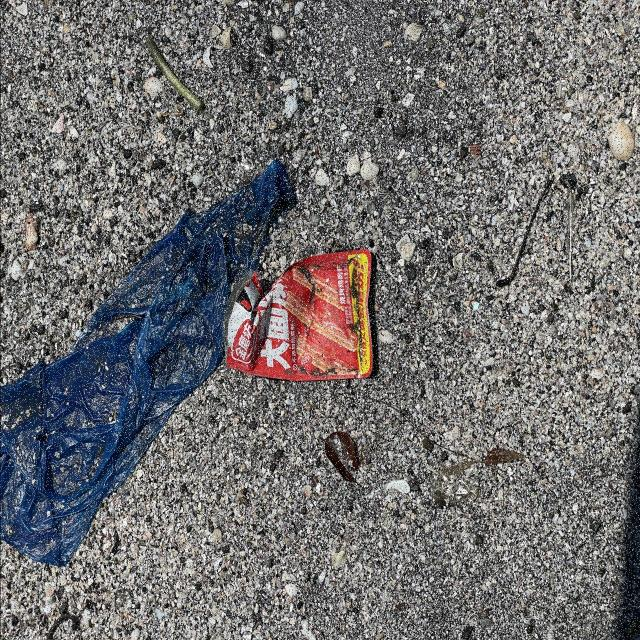plastic_waste: (226, 252, 376, 384)
